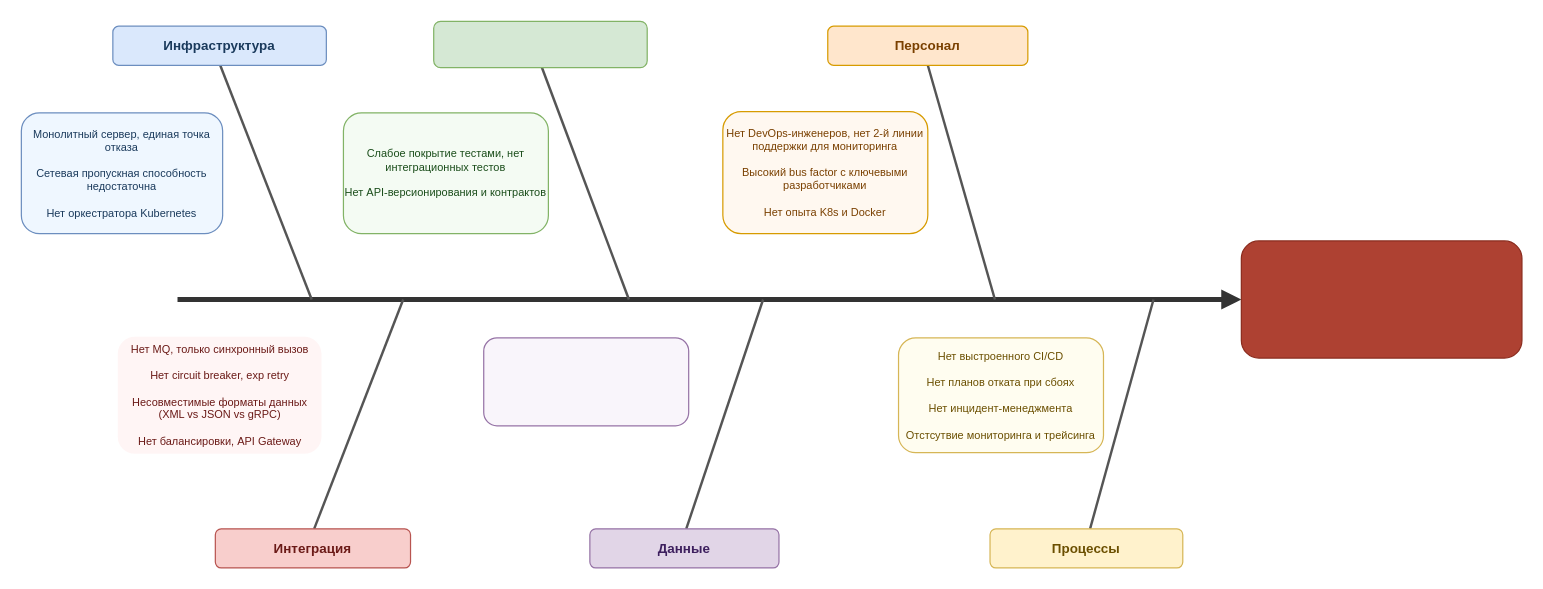
The diagram is 1543 pixels wide and 589 high, and some of its shapes have lost their labels. Here are the shapes that lost their labels. From the top down, the centre of each, then its label:
At [539,44]: "Программное обеспечение".
At [1381,299]: "Риски миграции на микросервисы".
At [586,381]: "Монолит, общая БД для всех сервисов Нет резервного копирования".
